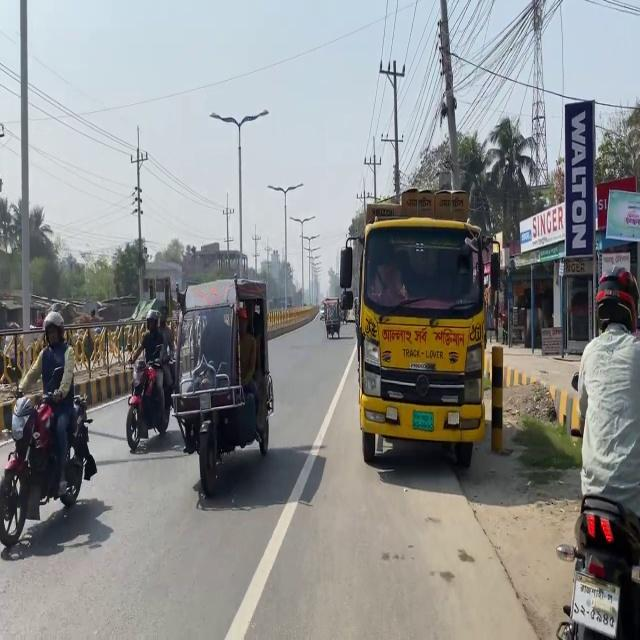Construction-barrier: (451, 463, 541, 638), (0, 360, 134, 436), (74, 363, 133, 410)
Fallen-tree: (0, 389, 96, 545), (554, 494, 639, 639), (125, 343, 174, 452), (321, 297, 341, 339)
Garbage-bin: (8, 311, 76, 494), (127, 309, 174, 408)
Traffic-cone: (338, 186, 501, 467), (170, 275, 274, 495)
